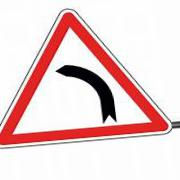left: (1, 6, 173, 143)
